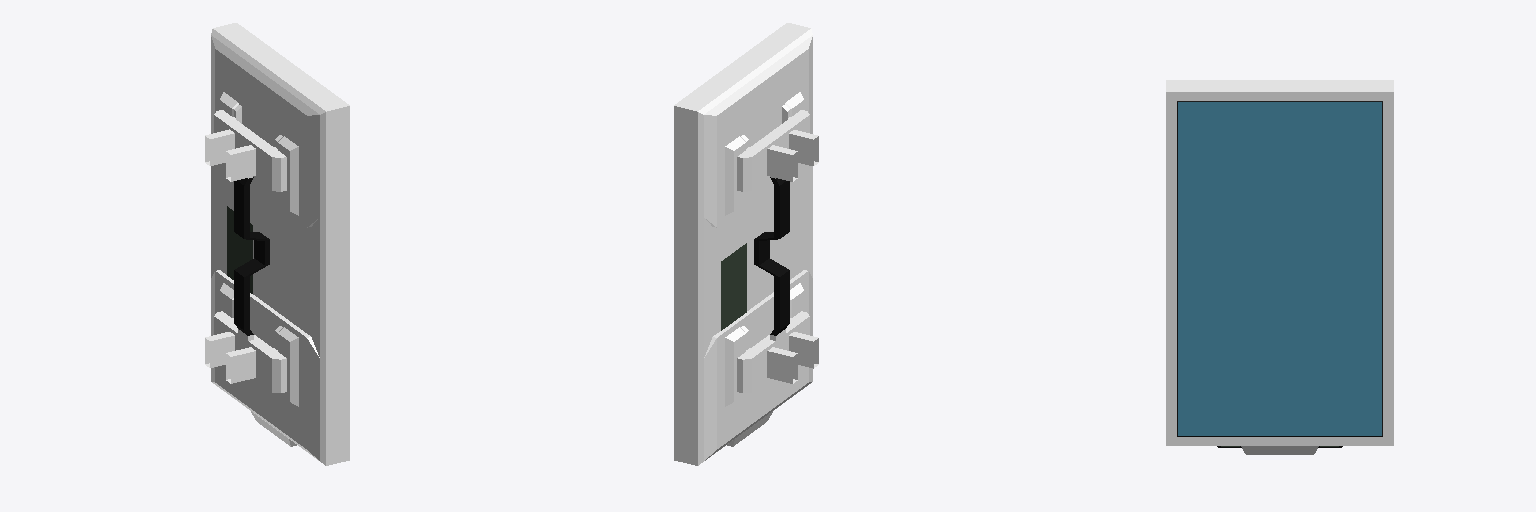
File: future-sign-refine.obj
The picture shows the model from 3 angles: view 1: azimuth 30°, elevation 25°; view 2: azimuth 150°, elevation 25°; view 3: azimuth 270°, elevation 25°; orthographic projection.
Visible parts, largest first — view 1: Mesh1 NM_Sign_Variety_C1 NM_Sign_Variety_F1 Model, Mesh2 NM_Sign_Variety_C1 NM_Sign_Variety_F1 Model; view 2: Mesh1 NM_Sign_Variety_C1 NM_Sign_Variety_F1 Model, Mesh2 NM_Sign_Variety_C1 NM_Sign_Variety_F1 Model; view 3: Mesh1 NM_Sign_Variety_C1 NM_Sign_Variety_F1 Model.
Boxes of the visible parts, <box> form: Mesh1 NM_Sign_Variety_C1 NM_Sign_Variety_F1 Model: <box>205,23,349,465</box>; Mesh2 NM_Sign_Variety_C1 NM_Sign_Variety_F1 Model: <box>227,206,252,293</box>; Mesh1 NM_Sign_Variety_C1 NM_Sign_Variety_F1 Model: <box>674,23,818,465</box>; Mesh2 NM_Sign_Variety_C1 NM_Sign_Variety_F1 Model: <box>721,243,746,330</box>; Mesh1 NM_Sign_Variety_C1 NM_Sign_Variety_F1 Model: <box>1166,80,1393,454</box>.
Size of the model in its own units: 1.39 by 6.37 by 3.59.